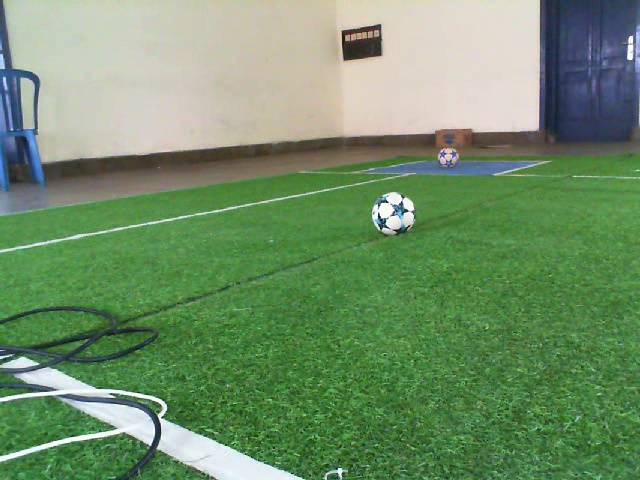ball: (369, 188, 418, 238), (436, 144, 461, 171)
